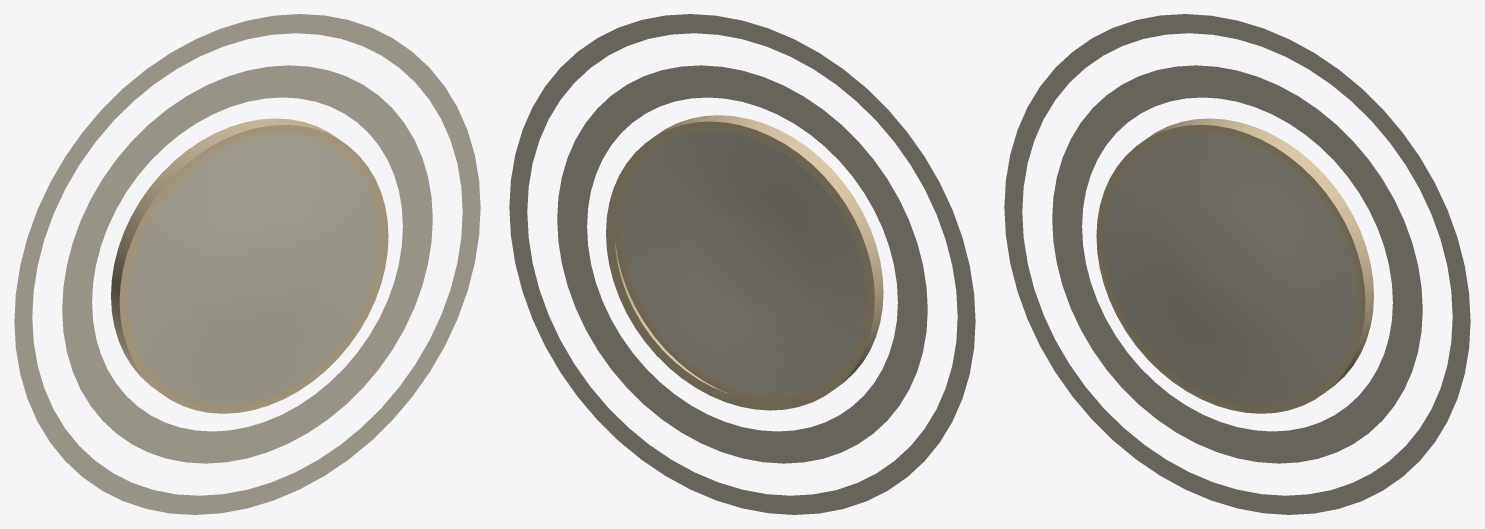
The model's file is KC32__AD_Int_Lamp_Wall_Sun.glb.
3 views of the same model, side by side, from view 1: azimuth 30°, elevation 25°; view 2: azimuth 150°, elevation 25°; view 3: azimuth 330°, elevation 25° (orthographic).
Visible parts, largest first — view 1: KC32_LUMIERE__AD_Int_Lamp_Wall_Sun, KC32_BRONZE__AD_Int_Lamp_Wall_Sun; view 2: KC32_LUMIERE__AD_Int_Lamp_Wall_Sun, KC32_BRONZE__AD_Int_Lamp_Wall_Sun; view 3: KC32_LUMIERE__AD_Int_Lamp_Wall_Sun, KC32_BRONZE__AD_Int_Lamp_Wall_Sun.
Boxes of the visible parts, bbox=[...] form: KC32_LUMIERE__AD_Int_Lamp_Wall_Sun: bbox=[14, 14, 480, 514]; KC32_BRONZE__AD_Int_Lamp_Wall_Sun: bbox=[111, 118, 388, 413]; KC32_LUMIERE__AD_Int_Lamp_Wall_Sun: bbox=[509, 14, 975, 514]; KC32_BRONZE__AD_Int_Lamp_Wall_Sun: bbox=[606, 115, 883, 410]; KC32_LUMIERE__AD_Int_Lamp_Wall_Sun: bbox=[1004, 14, 1470, 514]; KC32_BRONZE__AD_Int_Lamp_Wall_Sun: bbox=[1096, 118, 1373, 413].
Bounding box in the file's own units: 1.56 × 1.56 × 0.075.
